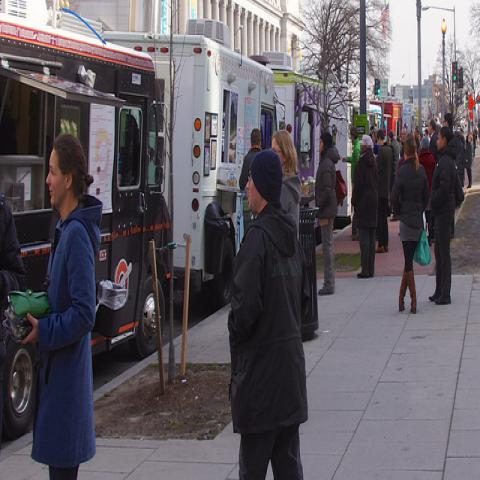truck: (0, 18, 173, 442), (102, 16, 294, 308), (263, 52, 348, 214), (367, 100, 403, 142)
